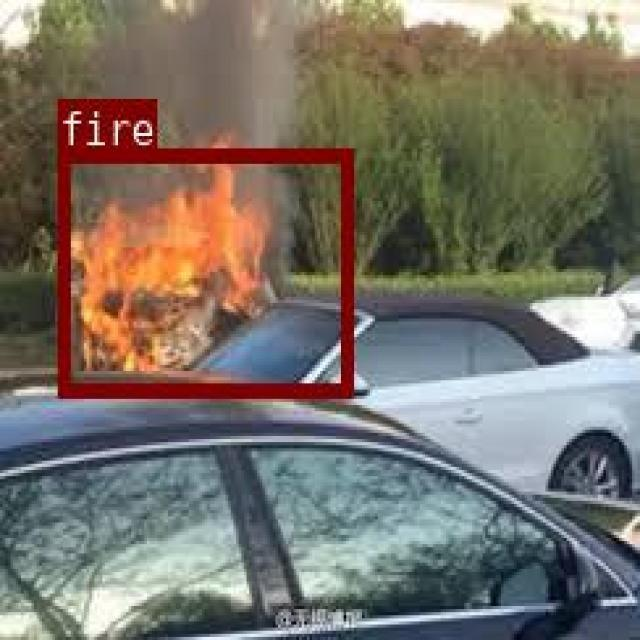fire: (57, 146, 350, 395)
